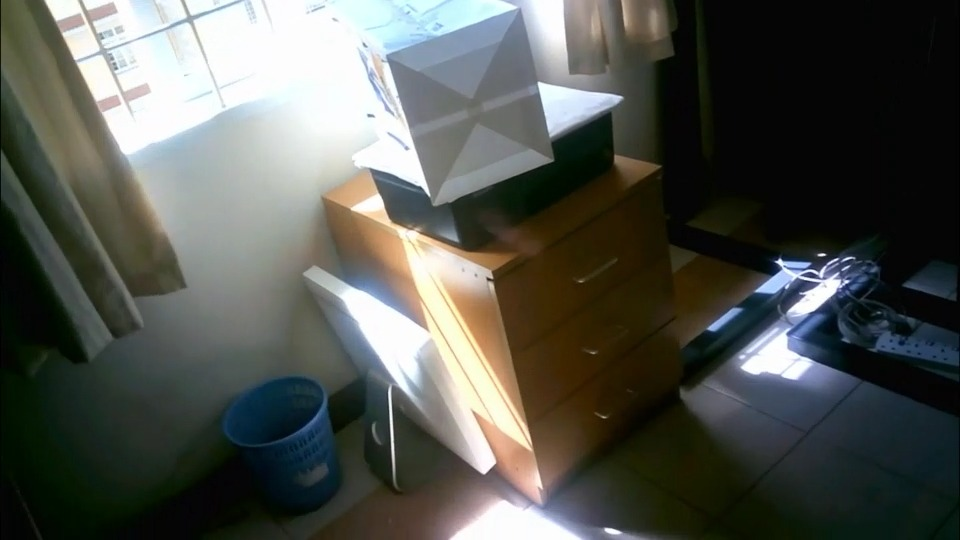wheat_flour_blue_label: (337, 2, 554, 206)
